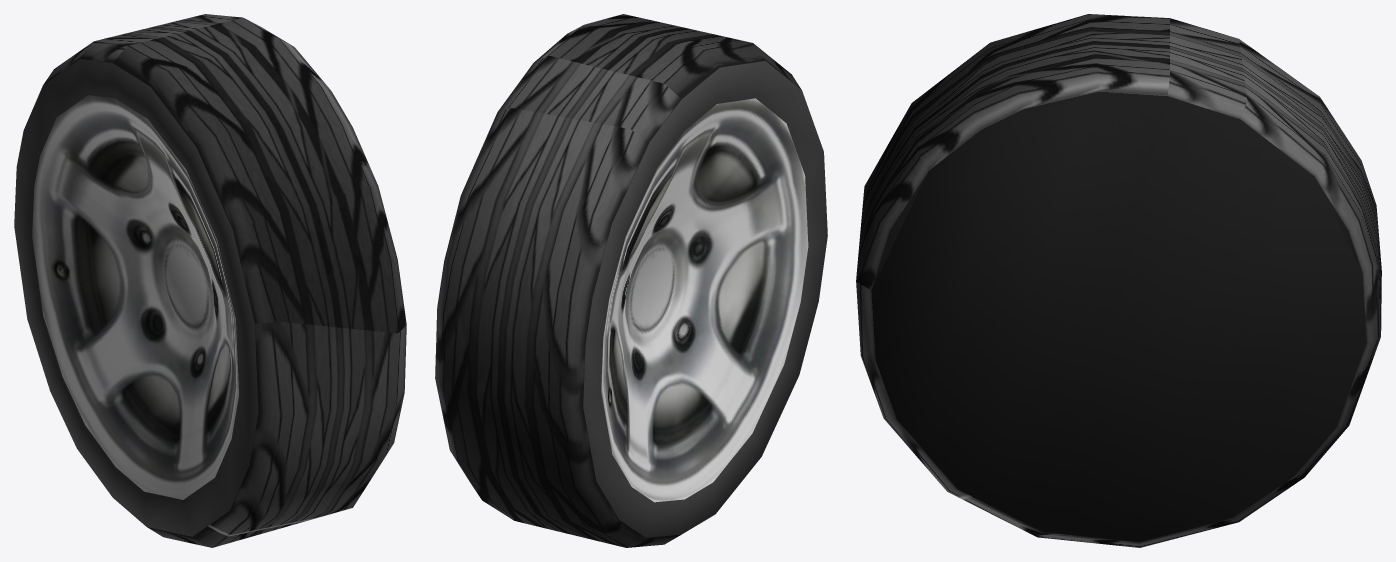
File: wheelRoyalSedan.fbx
The picture shows the model from 3 angles, left to right: view 1: azimuth 30°, elevation 25°; view 2: azimuth 150°, elevation 25°; view 3: azimuth 270°, elevation 25°; orthographic projection.
Visible parts, largest first — view 1: Cylinder; view 2: Cylinder; view 3: Cylinder.
Boxes of the visible parts, x1,y1,x2,y2 form: Cylinder: (14, 14, 406, 547); Cylinder: (435, 14, 827, 547); Cylinder: (856, 14, 1381, 547).
Size of the model in its own units: 70 by 212 by 212.
1 material, 1 textured.
